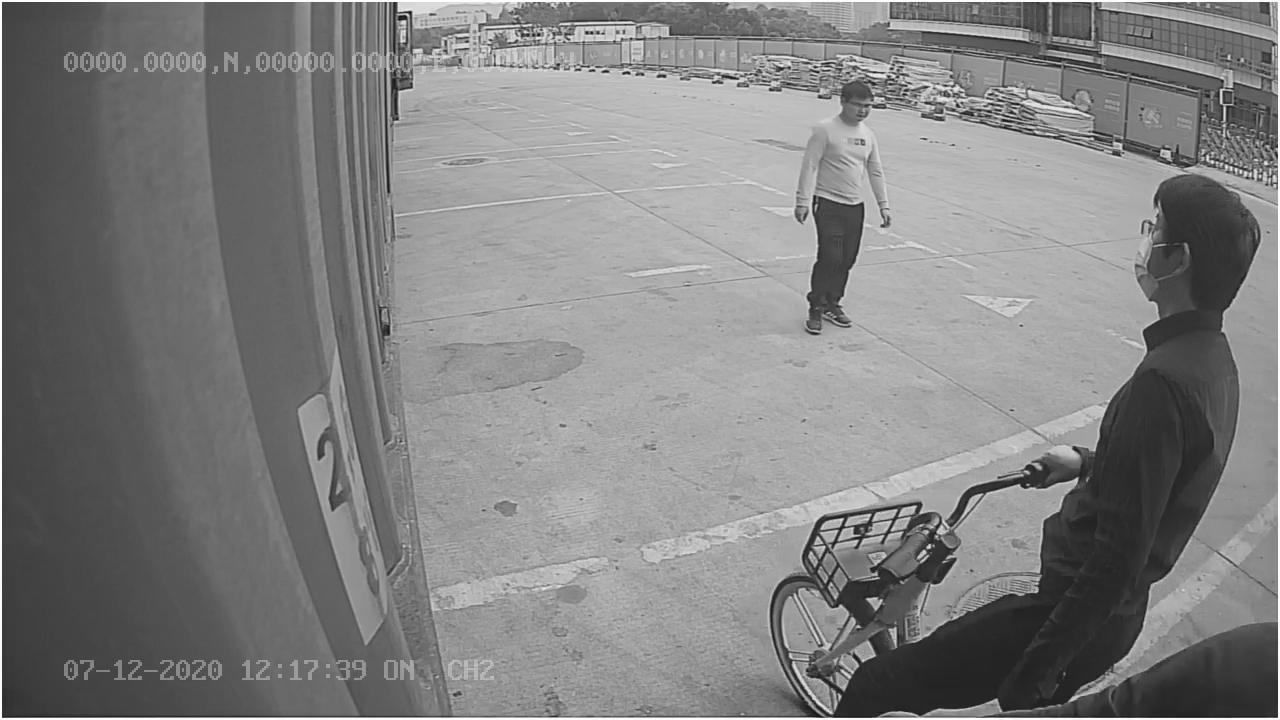person: (796, 76, 895, 334)
